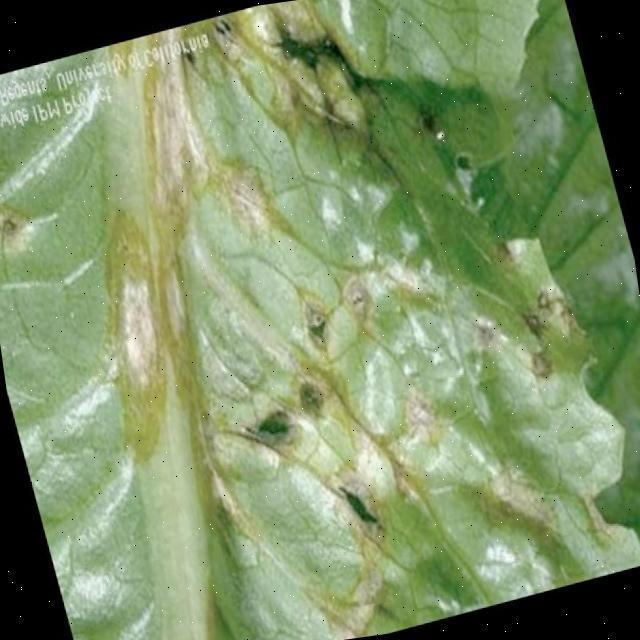Bacterial: (182, 208, 500, 623)
